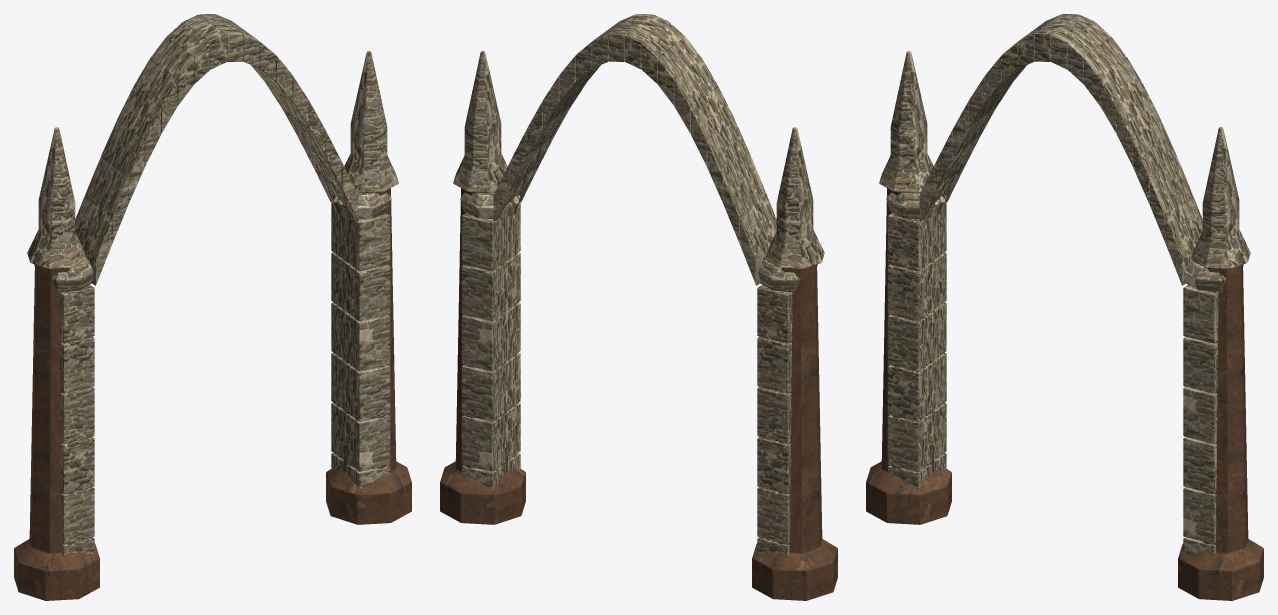
File: gothic_bay.glb
The picture shows the model from 3 angles, left to right: view 1: azimuth 30°, elevation 25°; view 2: azimuth 150°, elevation 25°; view 3: azimuth 330°, elevation 25°; orthographic projection.
Visible parts, largest first — view 1: Pier ashlar; view 2: Pier ashlar; view 3: Pier ashlar.
Boxes of the visible parts, x1,y1,x2,y2 form: Pier ashlar: (14,14,411,600); Pier ashlar: (440,14,837,600); Pier ashlar: (866,14,1263,600).
Size of the model in its own units: 4.73 by 6.06 by 0.9362.
Materials: 2 (2 with a texture image).
